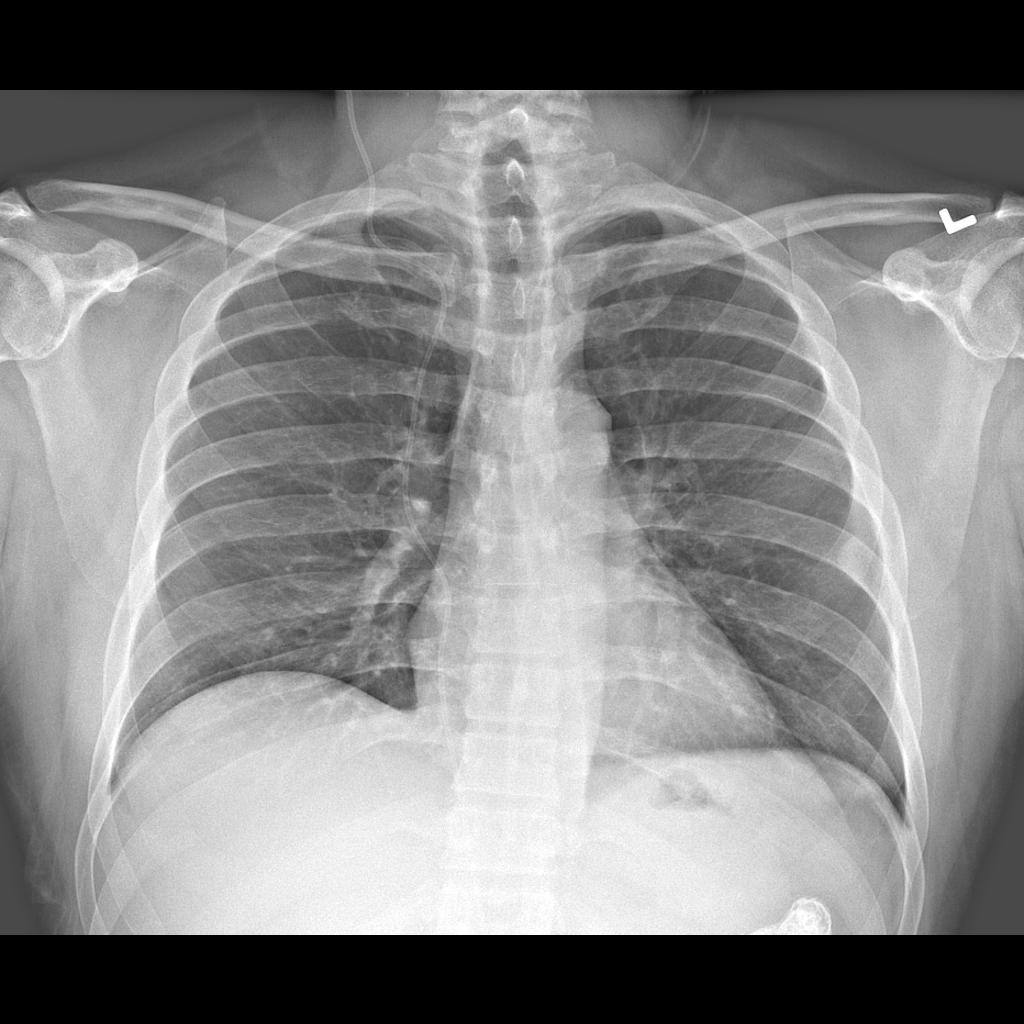Nodule: (832, 531, 884, 594)
